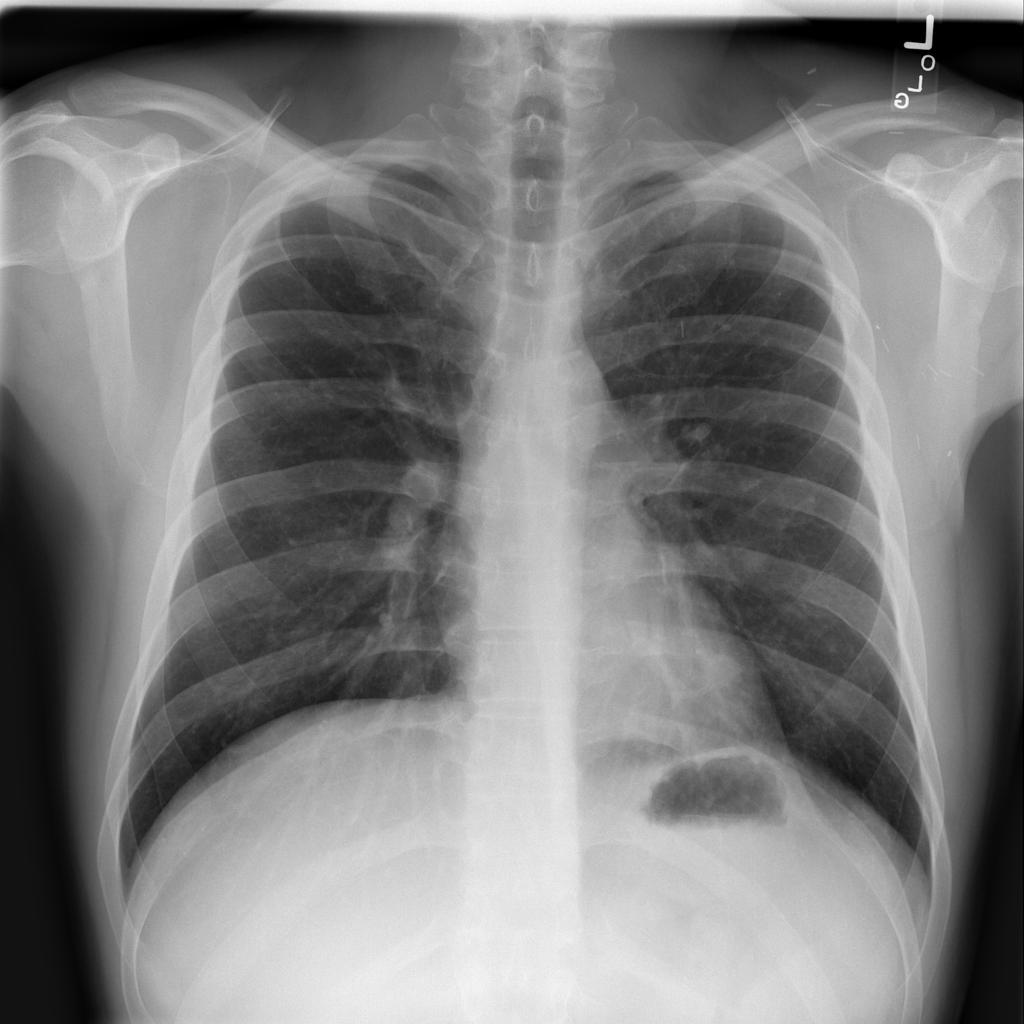nodule: (671, 411, 727, 458), (730, 534, 782, 583)
